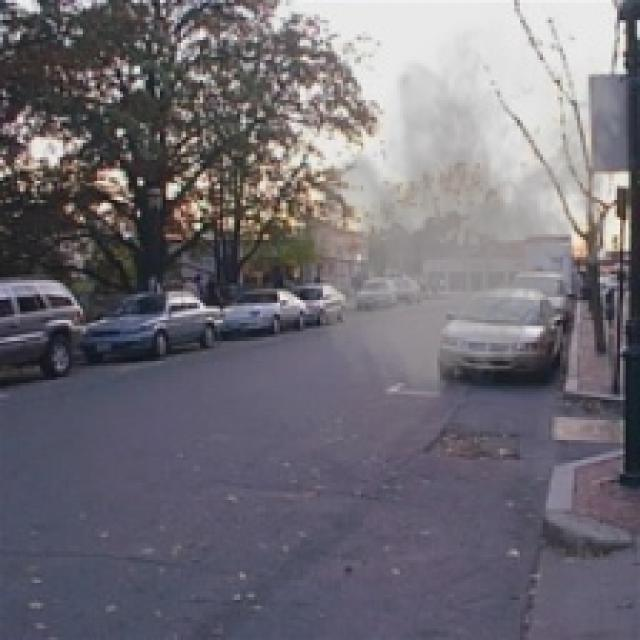Smoke: (288, 2, 632, 414)
